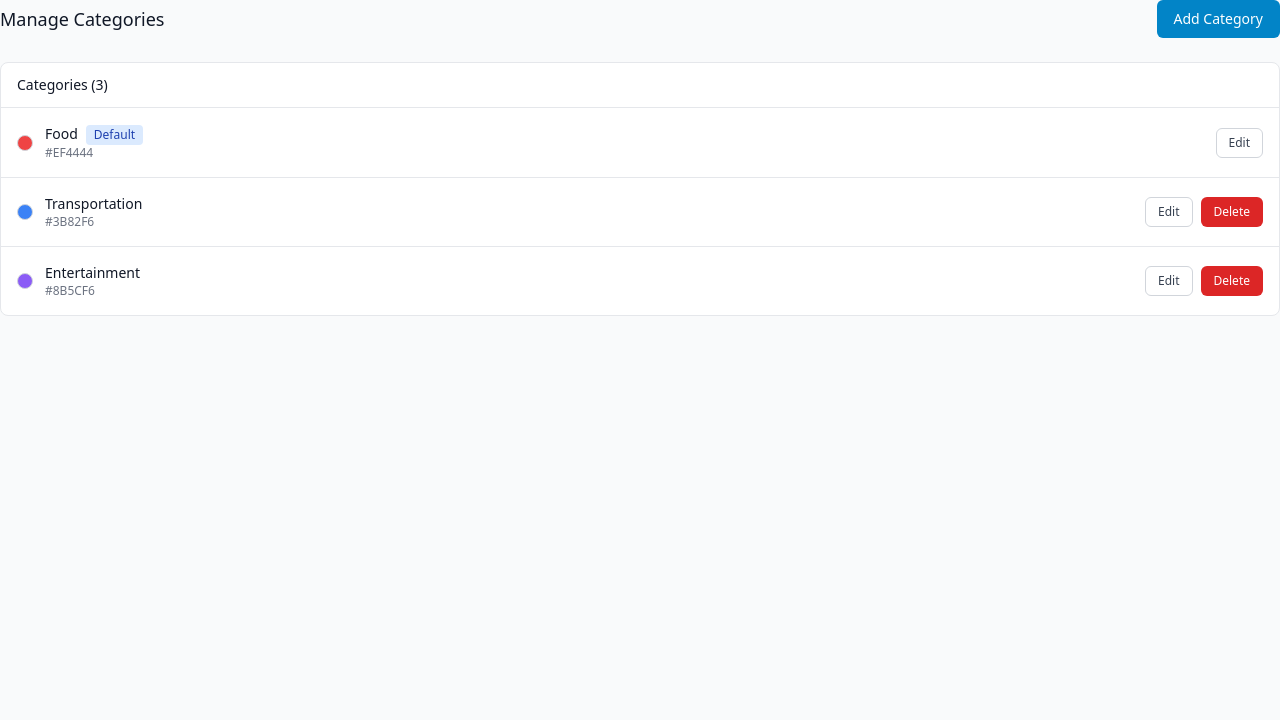
CategoryManager › cancels delete operation
// Click delete button
Click the button "Delete" in the row of "Transportation".
click(1232, 212)  # box [1200,197,1263,227]
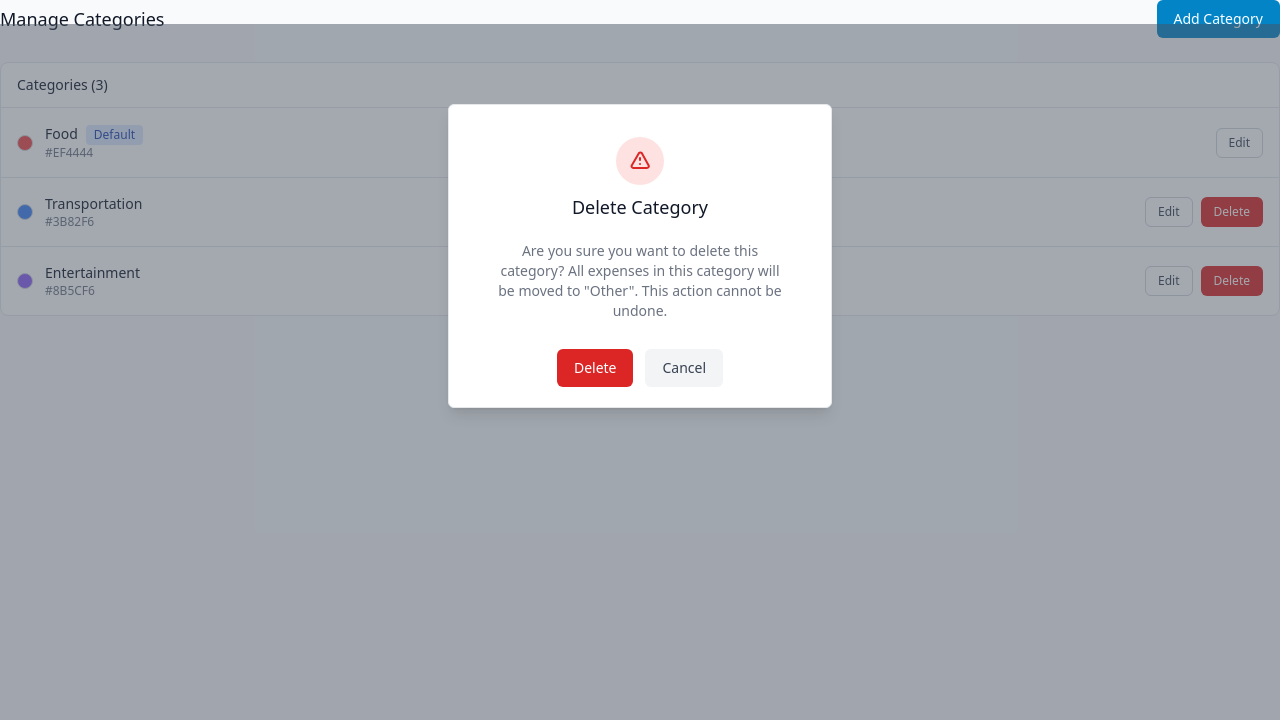
Click the button "Cancel".
click(684, 368)  # box [646,349,723,387]
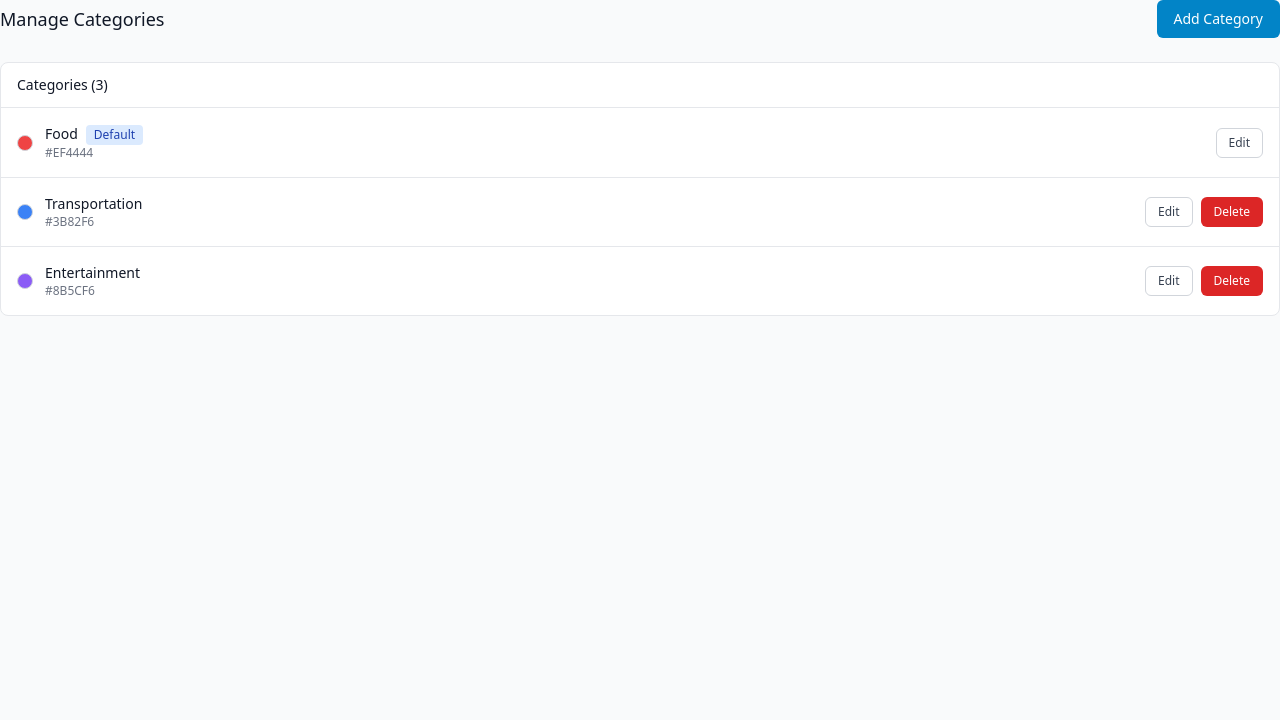
expect the heading "Delete Category" is gone: met
